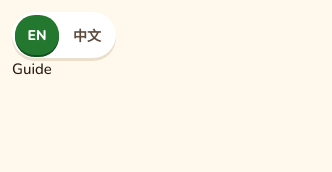
Test case: language setting › switches text and <html lang>, and remembers the choice
Later steps or results of the test are not shown.
Check: the text "Guide" is shown, box [12,59,52,79]
Click the button "中文". click: x=87, y=35
box: [61,15,113,55]
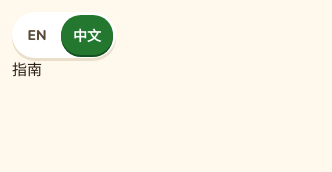
Check: the text "指南" is shown, box [12,60,42,80]
